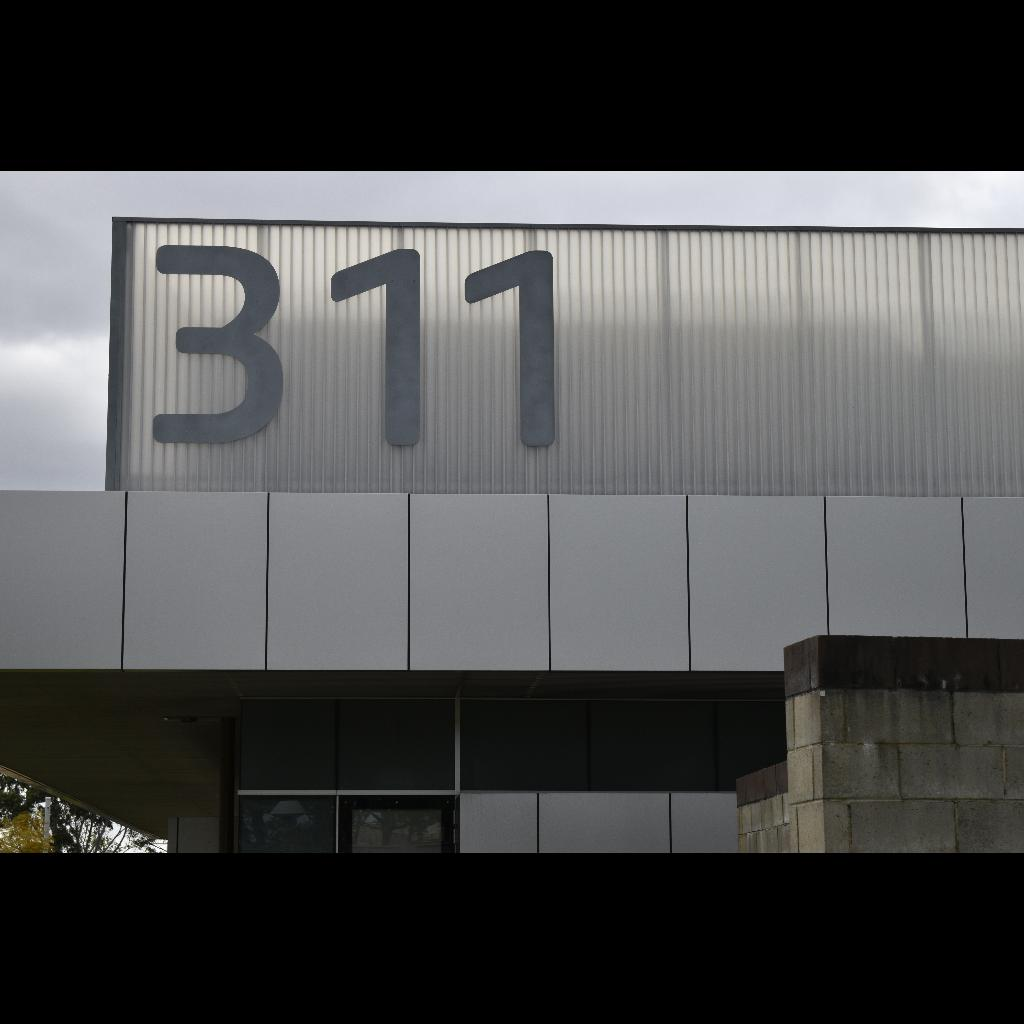BuildingCodes: (150, 240, 564, 450)
